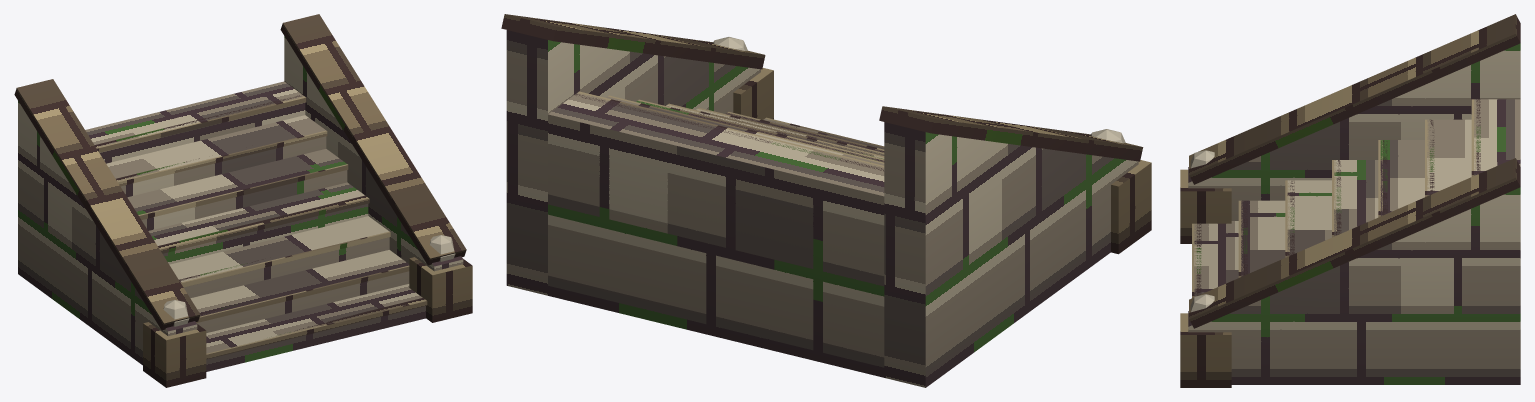
The model's file is scene_stair_shore_ledge.glb.
The picture shows the model from 3 angles, left to right: view 1: azimuth 30°, elevation 25°; view 2: azimuth 150°, elevation 25°; view 3: azimuth 270°, elevation 25°; orthographic projection. The views are drawn at different scales.
Visible parts, largest first — view 1: scene_stair_shore_ledge; view 2: scene_stair_shore_ledge; view 3: scene_stair_shore_ledge.
Boxes of the visible parts, x1=… form: scene_stair_shore_ledge: x1=14, y1=14, x2=472, y2=387; scene_stair_shore_ledge: x1=501, y1=14, x2=1151, y2=387; scene_stair_shore_ledge: x1=1180, y1=14, x2=1520, y2=387.
Bounding box in the file's own units: 3.36 × 1.98 × 2.92.
Materials: 2 (1 with a texture image).
